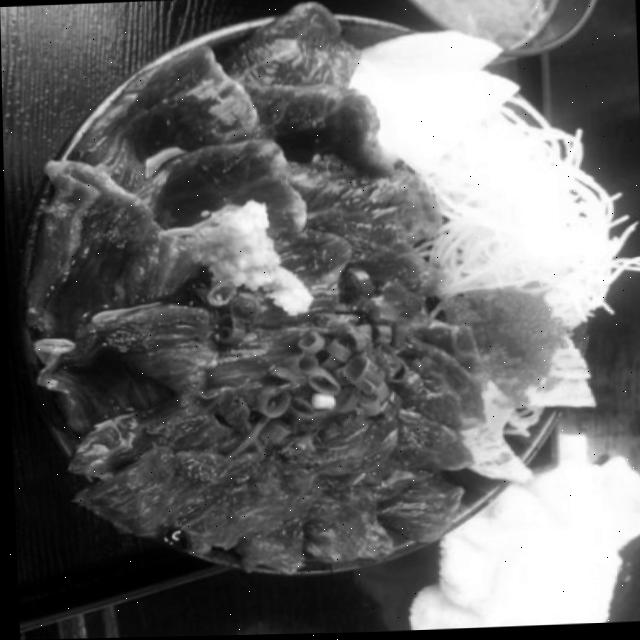刺身生食: (7, 0, 514, 600)
